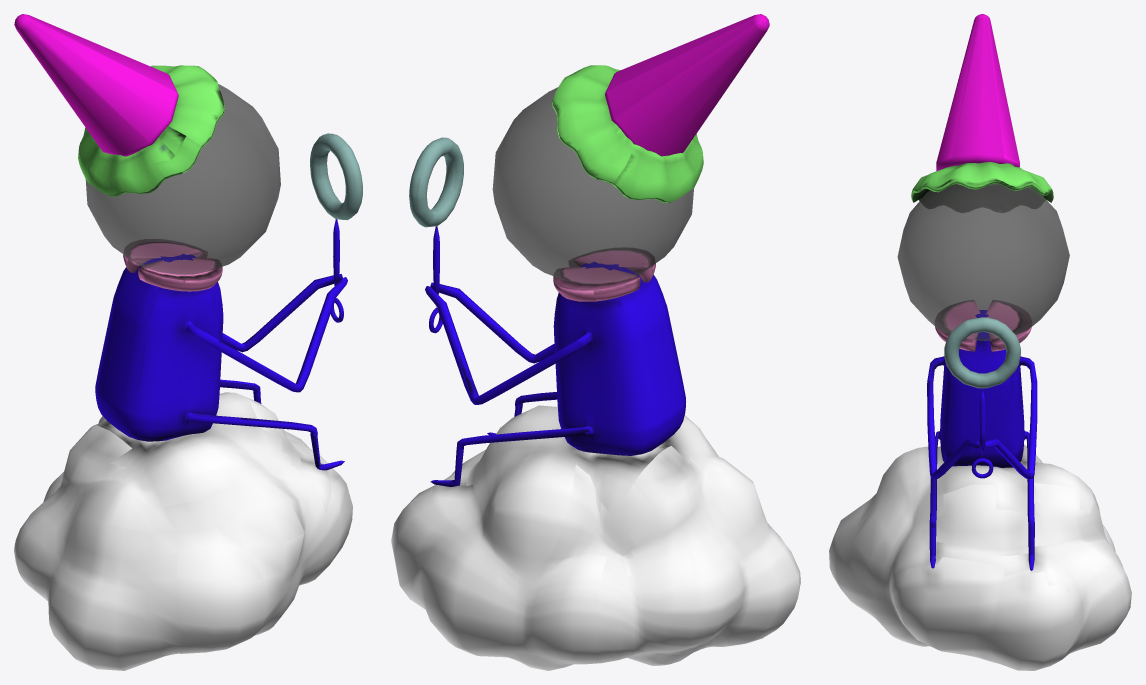
The model's file is Obstacle10.fbx.
The picture shows the model from 3 angles, left to right: view 1: azimuth 30°, elevation 25°; view 2: azimuth 150°, elevation 25°; view 3: azimuth 270°, elevation 25°; orthographic projection. The views are drawn at different scales.
Visible parts, largest first — view 1: Obstacle_10; view 2: Obstacle_10; view 3: Obstacle_10.
Boxes of the visible parts, <box> form: Obstacle_10: <box>14,14,362,670</box>; Obstacle_10: <box>391,14,800,670</box>; Obstacle_10: <box>829,14,1131,670</box>.
Size of the model in its own units: 1196 by 2248 by 1100.
